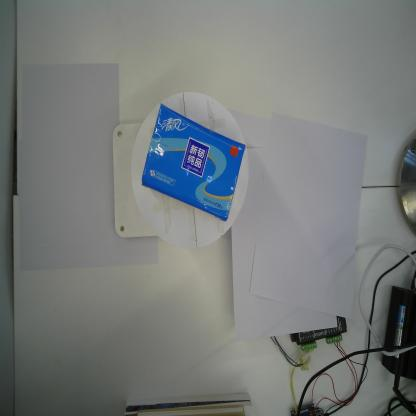Tissue: (141, 102, 246, 223)
